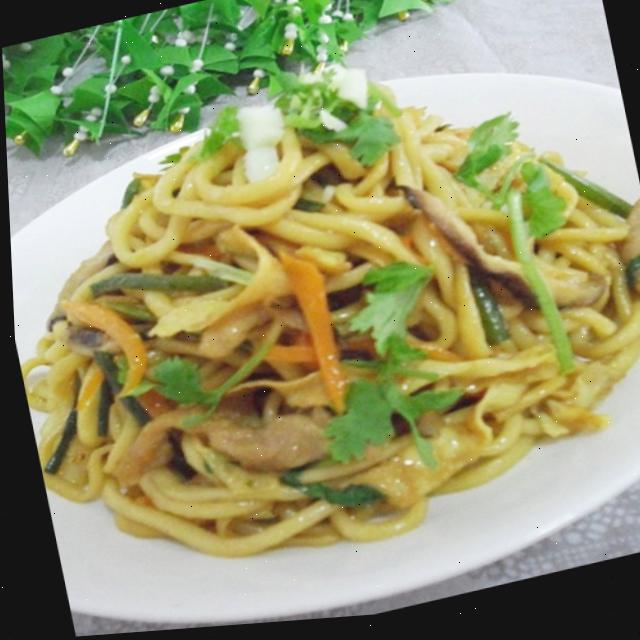面条主食: (1, 0, 640, 633)
